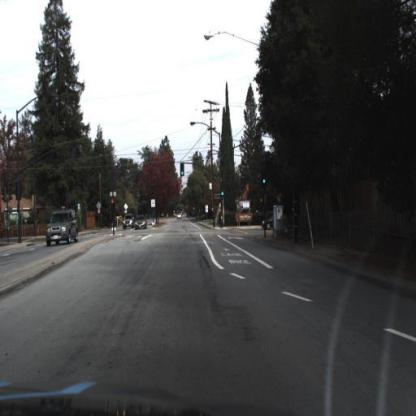car: (46, 209, 80, 250), (131, 210, 149, 232), (120, 212, 136, 232), (261, 209, 273, 232), (132, 214, 148, 230)
trafficLight-Green: (260, 167, 268, 190), (178, 158, 186, 180), (220, 184, 225, 200)
trafficLight-RedLeft: (106, 192, 117, 218)
